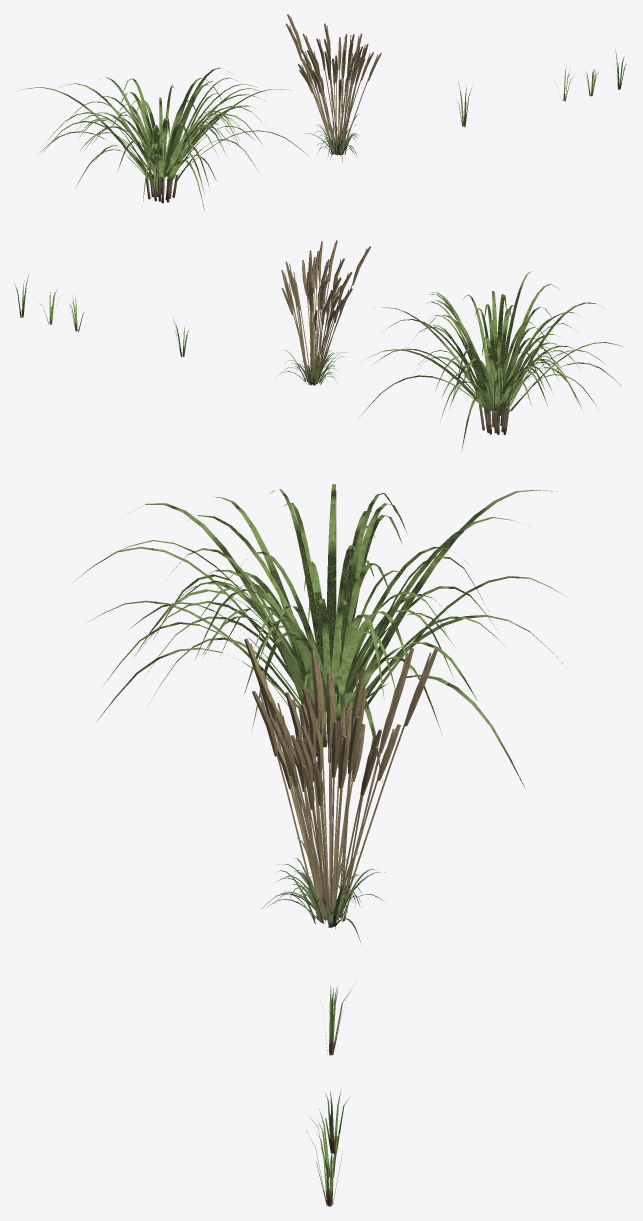
File: ThaiGrasses.fbx
The picture shows the model from 3 angles, top to bottom: view 1: azimuth 30°, elevation 25°; view 2: azimuth 150°, elevation 25°; view 3: azimuth 270°, elevation 25°; orthographic projection. The views are drawn at different scales.
Parts seen in each view (by area): view 1: LemongrassClump, WildGrassClump, RicePaddyPatch; view 2: LemongrassClump, WildGrassClump, RicePaddyPatch; view 3: LemongrassClump, WildGrassClump, RicePaddyPatch.
Part boxes in pixels (bbox=[...]): LemongrassClump: bbox=[19, 67, 308, 208]; WildGrassClump: bbox=[285, 14, 381, 161]; RicePaddyPatch: bbox=[553, 48, 626, 101]; LemongrassClump: bbox=[358, 271, 623, 453]; WildGrassClump: bbox=[276, 240, 370, 385]; RicePaddyPatch: bbox=[15, 275, 84, 331]; LemongrassClump: bbox=[75, 484, 567, 789]; WildGrassClump: bbox=[244, 638, 437, 942]; RicePaddyPatch: bbox=[306, 1089, 350, 1206].
Bounding box in the file's own units: 655 × 138 × 242.
Materials: 1 (1 with a texture image).
